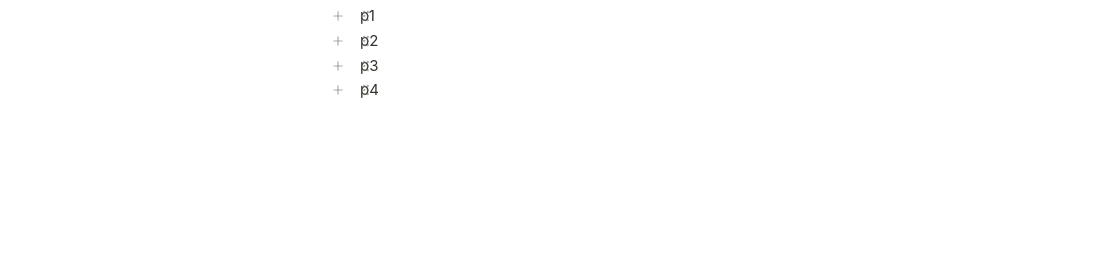
it: multi-block context menu › right-click inside the selection opens the bulk menu and preserves all selected rows
Step 1. Press the mouse on the element showing "p3" → (366, 66), box [354, 54, 378, 78]
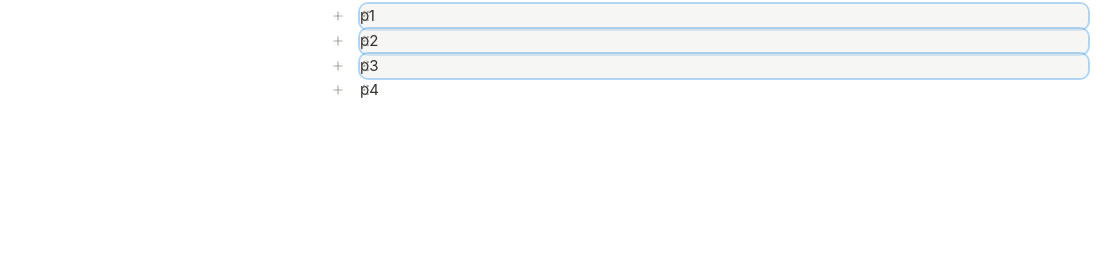
Step 2. Press the mouse on the element with class "obe-row-selected" showing "p2" → (724, 41), box [360, 29, 1088, 54]
Step 3. Right-click the element with class "obe-row-selected" showing "p2" → (724, 41), box [360, 29, 1088, 54]
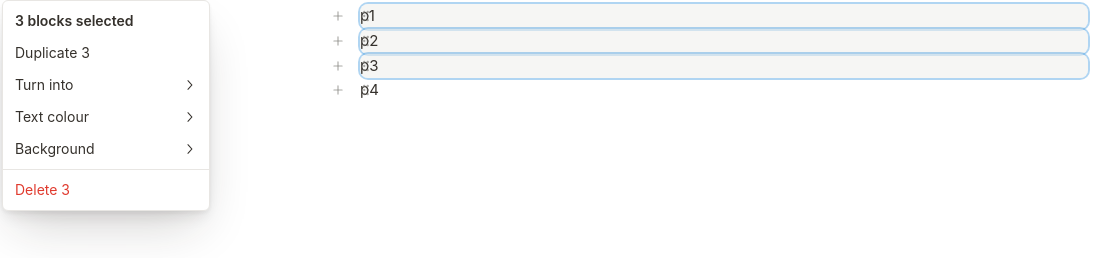
Expected: the text "3 blocks selected" is shown, [15, 12, 134, 29]
Expected: the menu item "Duplicate 3" is shown, [15, 44, 90, 61]
Expected: the menu item "Turn into" is shown, [15, 76, 197, 93]
